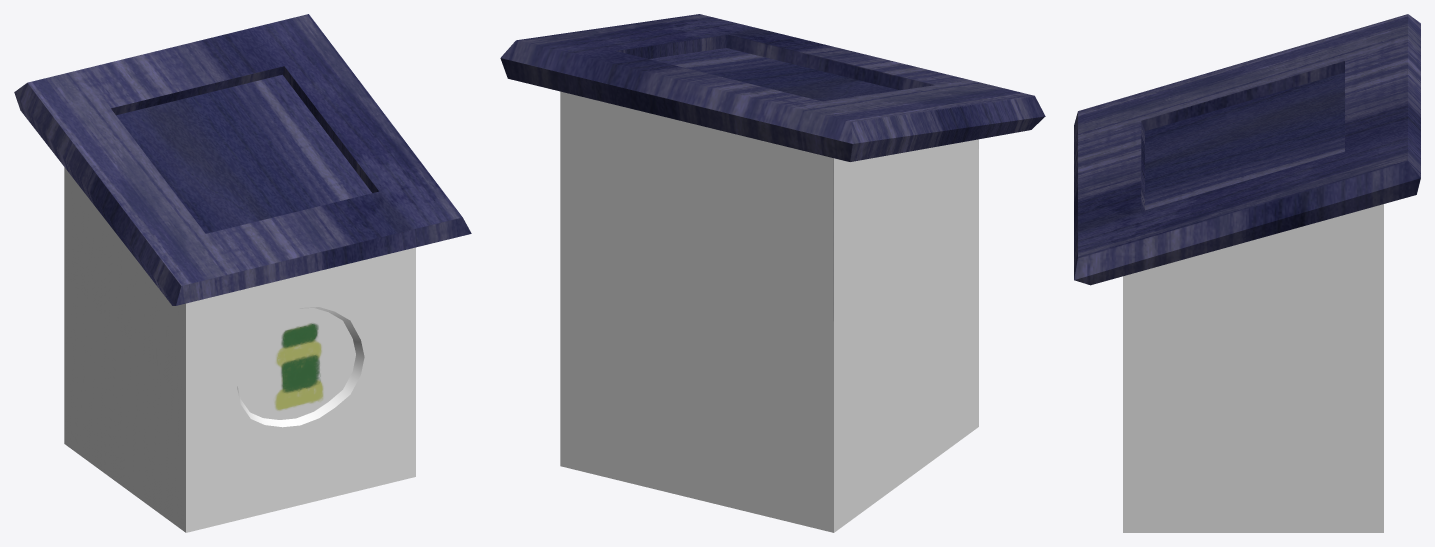
The model's file is Pedestal_Final_2.fbx.
The picture shows the model from 3 angles, left to right: view 1: azimuth 30°, elevation 25°; view 2: azimuth 150°, elevation 25°; view 3: azimuth 270°, elevation 25°; orthographic projection. The views are drawn at different scales.
Visible parts, largest first — view 1: pCube11; view 2: pCube11; view 3: pCube11.
Part boxes in pixels (x1,y1,x2,y2): pCube11: (14,14,471,532); pCube11: (500,14,1045,532); pCube11: (1074,14,1420,532).
Size of the model in its own units: 2.78 by 3.23 by 2.64.
Materials: 1 (1 with a texture image).
